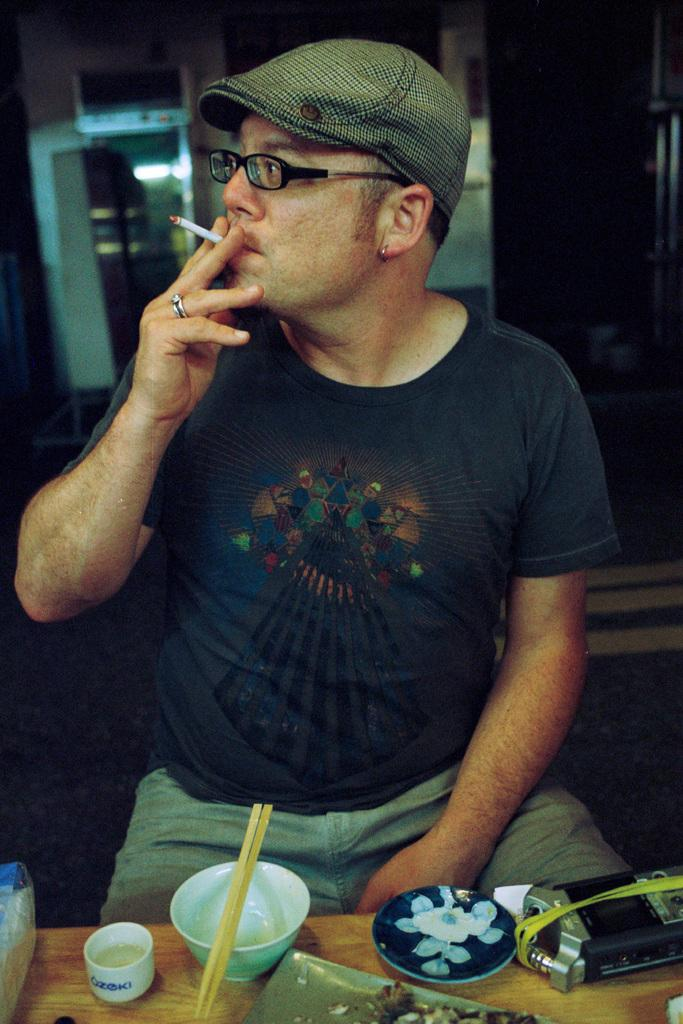Hat: (193, 34, 475, 224)
